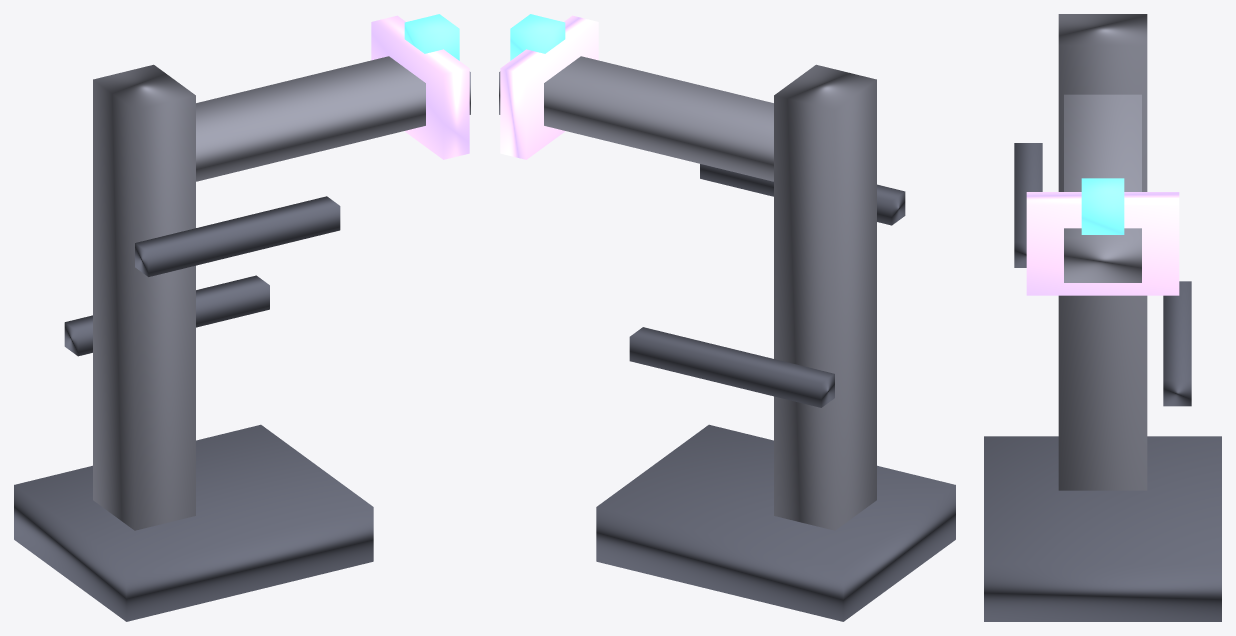
File: parallax-shear-anchor-lod1.glb
3 renders of one model, left to right at view 1: azimuth 30°, elevation 25°; view 2: azimuth 150°, elevation 25°; view 3: azimuth 270°, elevation 25°, orthographic. The views are drawn at different scales.
Visible parts, largest first — view 1: parallax-shear-anchor-spine, parallax-shear-anchor-foot, parallax-shear-anchor-cantilever, parallax-shear-anchor-brace-upper, parallax-shear-anchor-field-band, parallax-shear-anchor-brace-lower, parallax-shear-anchor-sensor; view 2: parallax-shear-anchor-spine, parallax-shear-anchor-foot, parallax-shear-anchor-cantilever, parallax-shear-anchor-brace-lower, parallax-shear-anchor-field-band, parallax-shear-anchor-brace-upper, parallax-shear-anchor-sensor; view 3: parallax-shear-anchor-foot, parallax-shear-anchor-spine, parallax-shear-anchor-cantilever, parallax-shear-anchor-field-band, parallax-shear-anchor-brace-lower, parallax-shear-anchor-sensor, parallax-shear-anchor-brace-upper.
Boxes of the visible parts, left/top/right/bottom form: parallax-shear-anchor-spine: left=93, top=64, right=195, bottom=530; parallax-shear-anchor-foot: left=14, top=424, right=373, bottom=621; parallax-shear-anchor-cantilever: left=196, top=56, right=470, bottom=181; parallax-shear-anchor-brace-upper: left=135, top=196, right=340, bottom=276; parallax-shear-anchor-field-band: left=371, top=15, right=469, bottom=159; parallax-shear-anchor-brace-lower: left=64, top=275, right=269, bottom=356; parallax-shear-anchor-sensor: left=404, top=14, right=459, bottom=60; parallax-shear-anchor-spine: left=774, top=64, right=876, bottom=530; parallax-shear-anchor-foot: left=596, top=424, right=955, bottom=621; parallax-shear-anchor-cantilever: left=499, top=56, right=773, bottom=181; parallax-shear-anchor-brace-lower: left=629, top=327, right=834, bottom=407; parallax-shear-anchor-field-band: left=500, top=15, right=598, bottom=159; parallax-shear-anchor-brace-upper: left=700, top=164, right=905, bottom=225; parallax-shear-anchor-sensor: left=510, top=14, right=565, bottom=60; parallax-shear-anchor-foot: left=984, top=436, right=1221, bottom=621; parallax-shear-anchor-spine: left=1058, top=14, right=1147, bottom=490; parallax-shear-anchor-cantilever: left=1064, top=94, right=1141, bottom=282; parallax-shear-anchor-field-band: left=1026, top=192, right=1179, bottom=295; parallax-shear-anchor-brace-lower: left=1163, top=281, right=1191, bottom=406; parallax-shear-anchor-sensor: left=1081, top=178, right=1124, bottom=234; parallax-shear-anchor-brace-upper: left=1014, top=143, right=1042, bottom=267.
Size of the model in its own units: 2.63 by 3.12 by 1.34.
